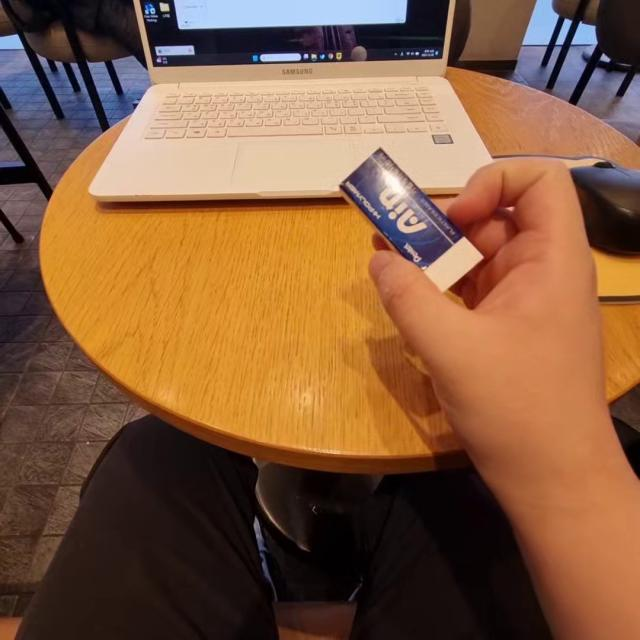eraser: (325, 136, 484, 292)
grab_eraser: (313, 133, 602, 517)
hand: (445, 162, 587, 456)
mouse: (572, 147, 640, 268)
